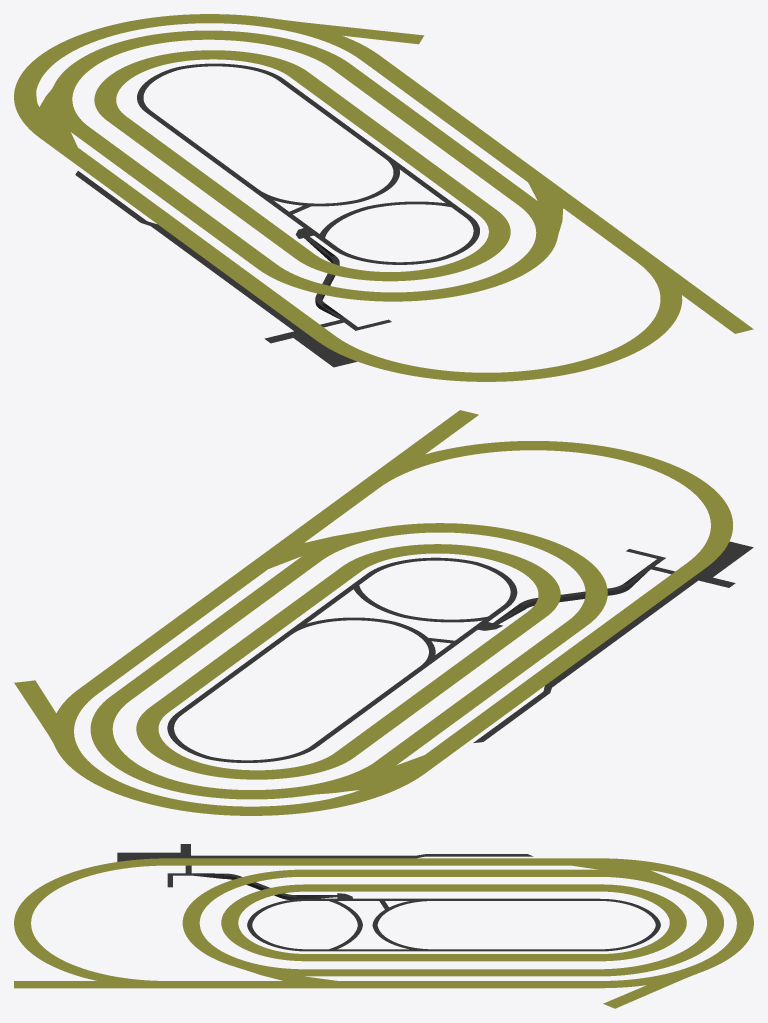
The model's file is Track-fix.fbx.
3 views of the same model, one above another, from view 1: azimuth 30°, elevation 25°; view 2: azimuth 150°, elevation 25°; view 3: azimuth 270°, elevation 25° (orthographic). The views are drawn at different scales.
Visible parts, largest first — view 1: track, Object006, road; view 2: track, Object006, road; view 3: track, Object006, road.
Part boxes in pixels (bbox=[...]): track: bbox=[14, 14, 753, 381]; Object006: bbox=[137, 63, 479, 330]; road: bbox=[75, 171, 356, 367]; track: bbox=[14, 410, 732, 815]; Object006: bbox=[167, 549, 674, 762]; road: bbox=[473, 541, 753, 742]; track: bbox=[14, 858, 753, 1008]; Object006: bbox=[167, 865, 660, 951]; road: bbox=[117, 844, 533, 861].
Bounding box in the file's own units: 45675 × 449 × 86725.
